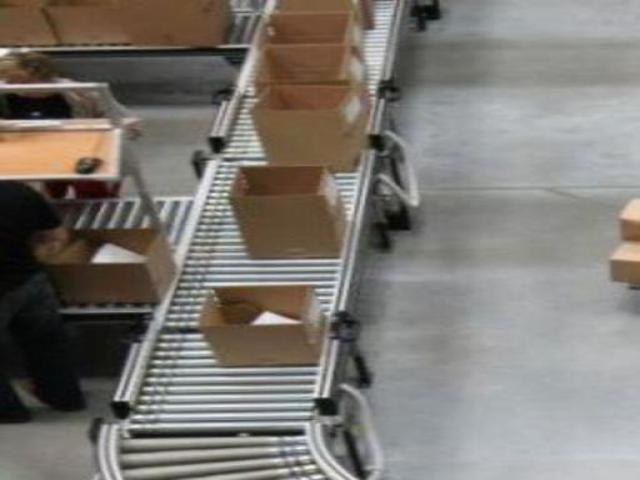conveyor: (82, 0, 422, 479)
